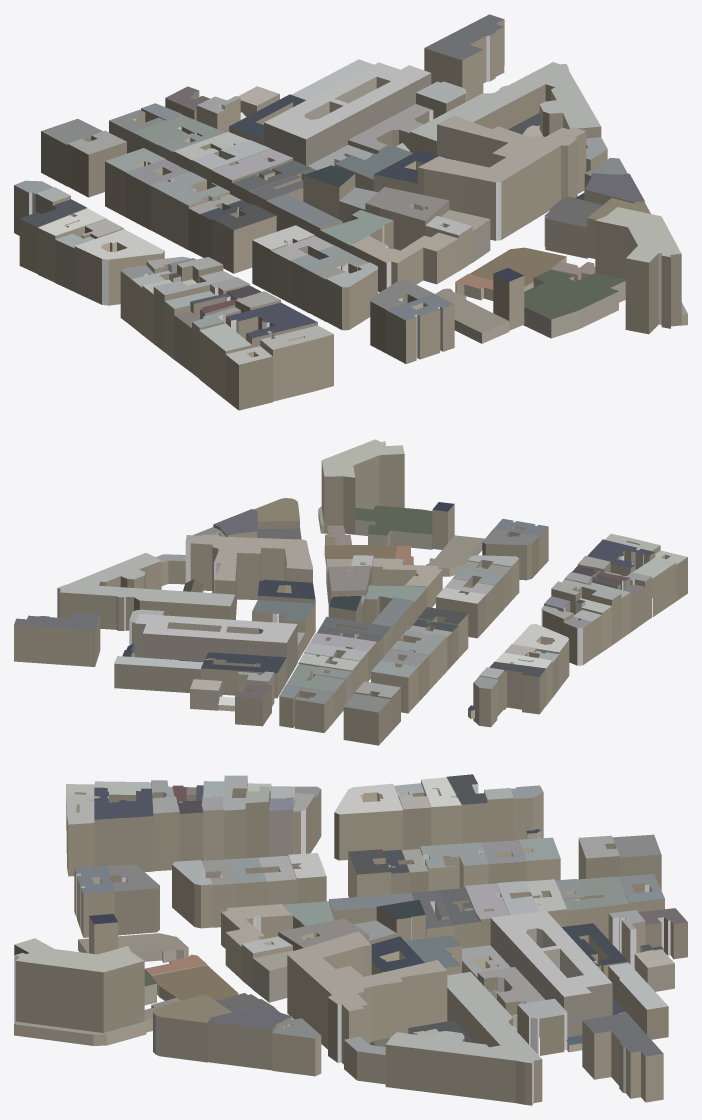
The picture shows the model from 3 angles, top to bottom: view 1: azimuth 30°, elevation 25°; view 2: azimuth 150°, elevation 25°; view 3: azimuth 270°, elevation 25°; orthographic projection. The views are drawn at different scales.
Parts seen in each view (by area): view 1: tuile; view 2: tuile; view 3: tuile.
Boxes of the visible parts, x1,y1,x2,y2 form: tuile: [14, 14, 687, 410]; tuile: [14, 439, 687, 745]; tuile: [14, 774, 687, 1105].
Size of the model in its own units: 282 by 35.63 by 285.
